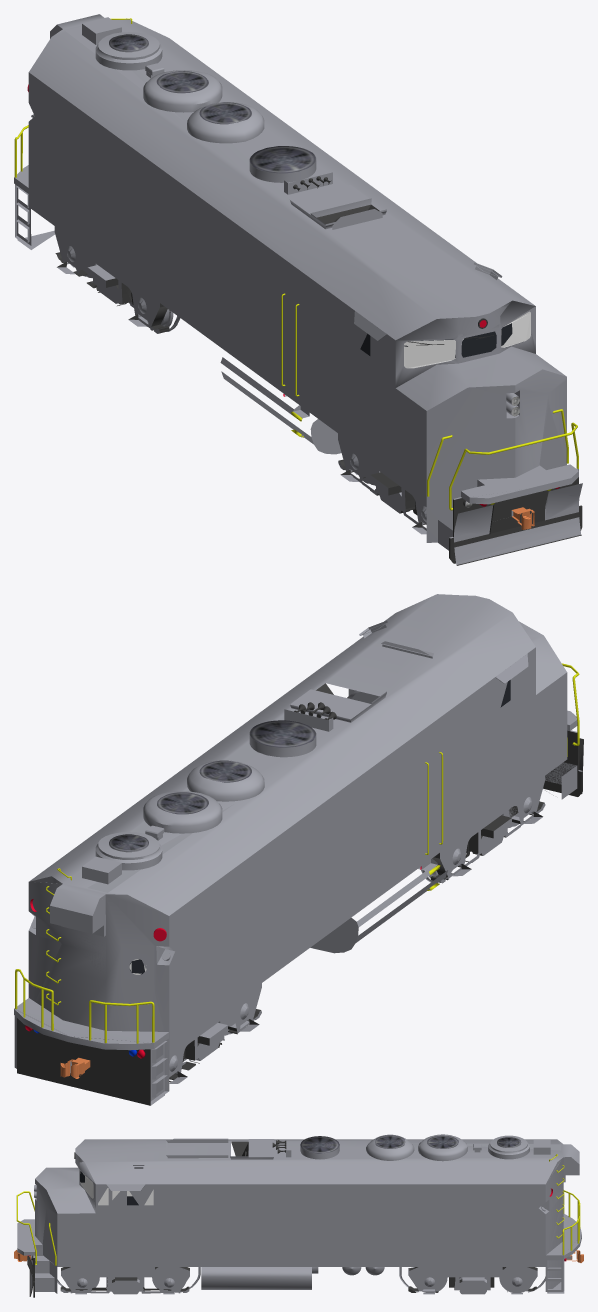
File: loco.glb
3 views of the same model, one above another, from view 1: azimuth 30°, elevation 25°; view 2: azimuth 150°, elevation 25°; view 3: azimuth 270°, elevation 25° (orthographic). The views are drawn at different scales.
Visible parts, largest first — view 1: far, kit0, kit1, glass0, glass1; view 2: far, kit0, kit1; view 3: kit0, far, kit1, glass0.
Boxes of the visible parts, x1,y1,x2,y2 form: far: (14, 26, 582, 563); kit0: (14, 14, 582, 565); kit1: (15, 18, 580, 558); glass0: (404, 311, 530, 368); glass1: (404, 312, 530, 367); far: (14, 641, 583, 1105); kit0: (14, 594, 583, 1105); kit1: (16, 669, 583, 1078); kit0: (14, 1134, 583, 1297); far: (14, 1141, 582, 1294); kit1: (15, 1136, 580, 1293); glass0: (80, 1174, 153, 1205).
Bounding box in the file's own units: 2.66 × 3.87 × 14.2.
1 material, 1 textured.
